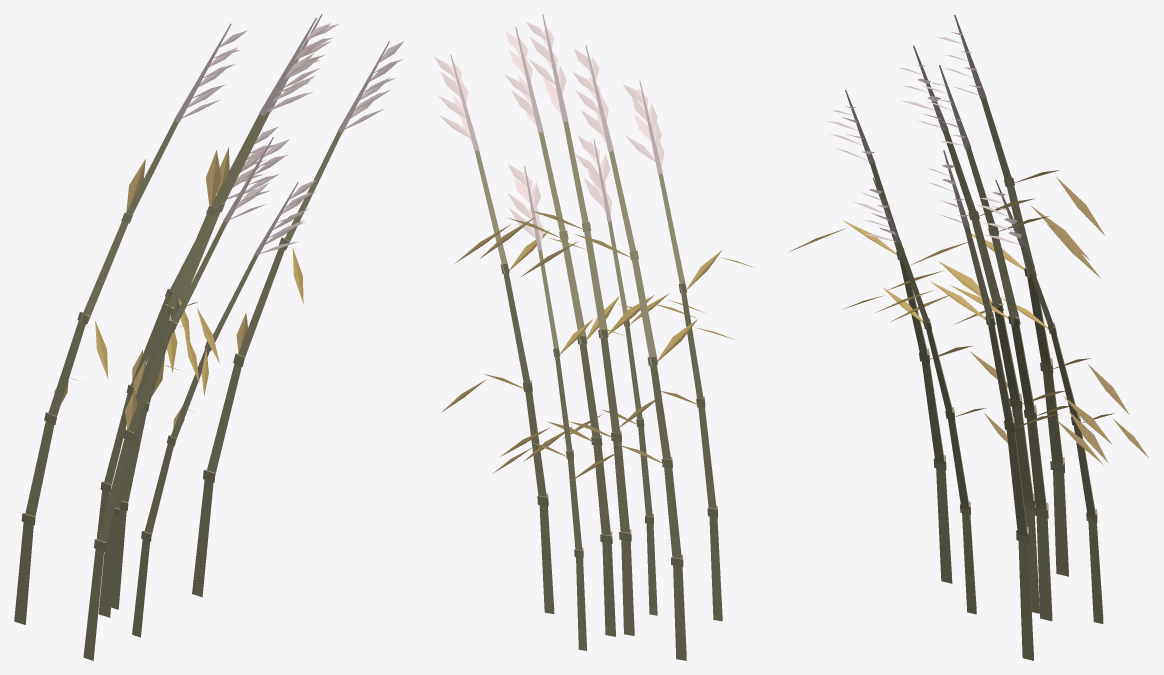
File: shui.luweicong__autumn.glb
3 renders of one model, left to right at view 1: azimuth 30°, elevation 25°; view 2: azimuth 150°, elevation 25°; view 3: azimuth 270°, elevation 25°, orthographic. The views are drawn at different scales.
Parts seen in each view (by area): view 1: shui.luweicong__autumn; view 2: shui.luweicong__autumn; view 3: shui.luweicong__autumn.
Part boxes in pixels (x1,y1,x2,y2): shui.luweicong__autumn: (14,14,403,660); shui.luweicong__autumn: (433,14,755,660); shui.luweicong__autumn: (789,14,1148,660).
Size of the model in its own units: 2.03 by 3.49 by 1.78.
